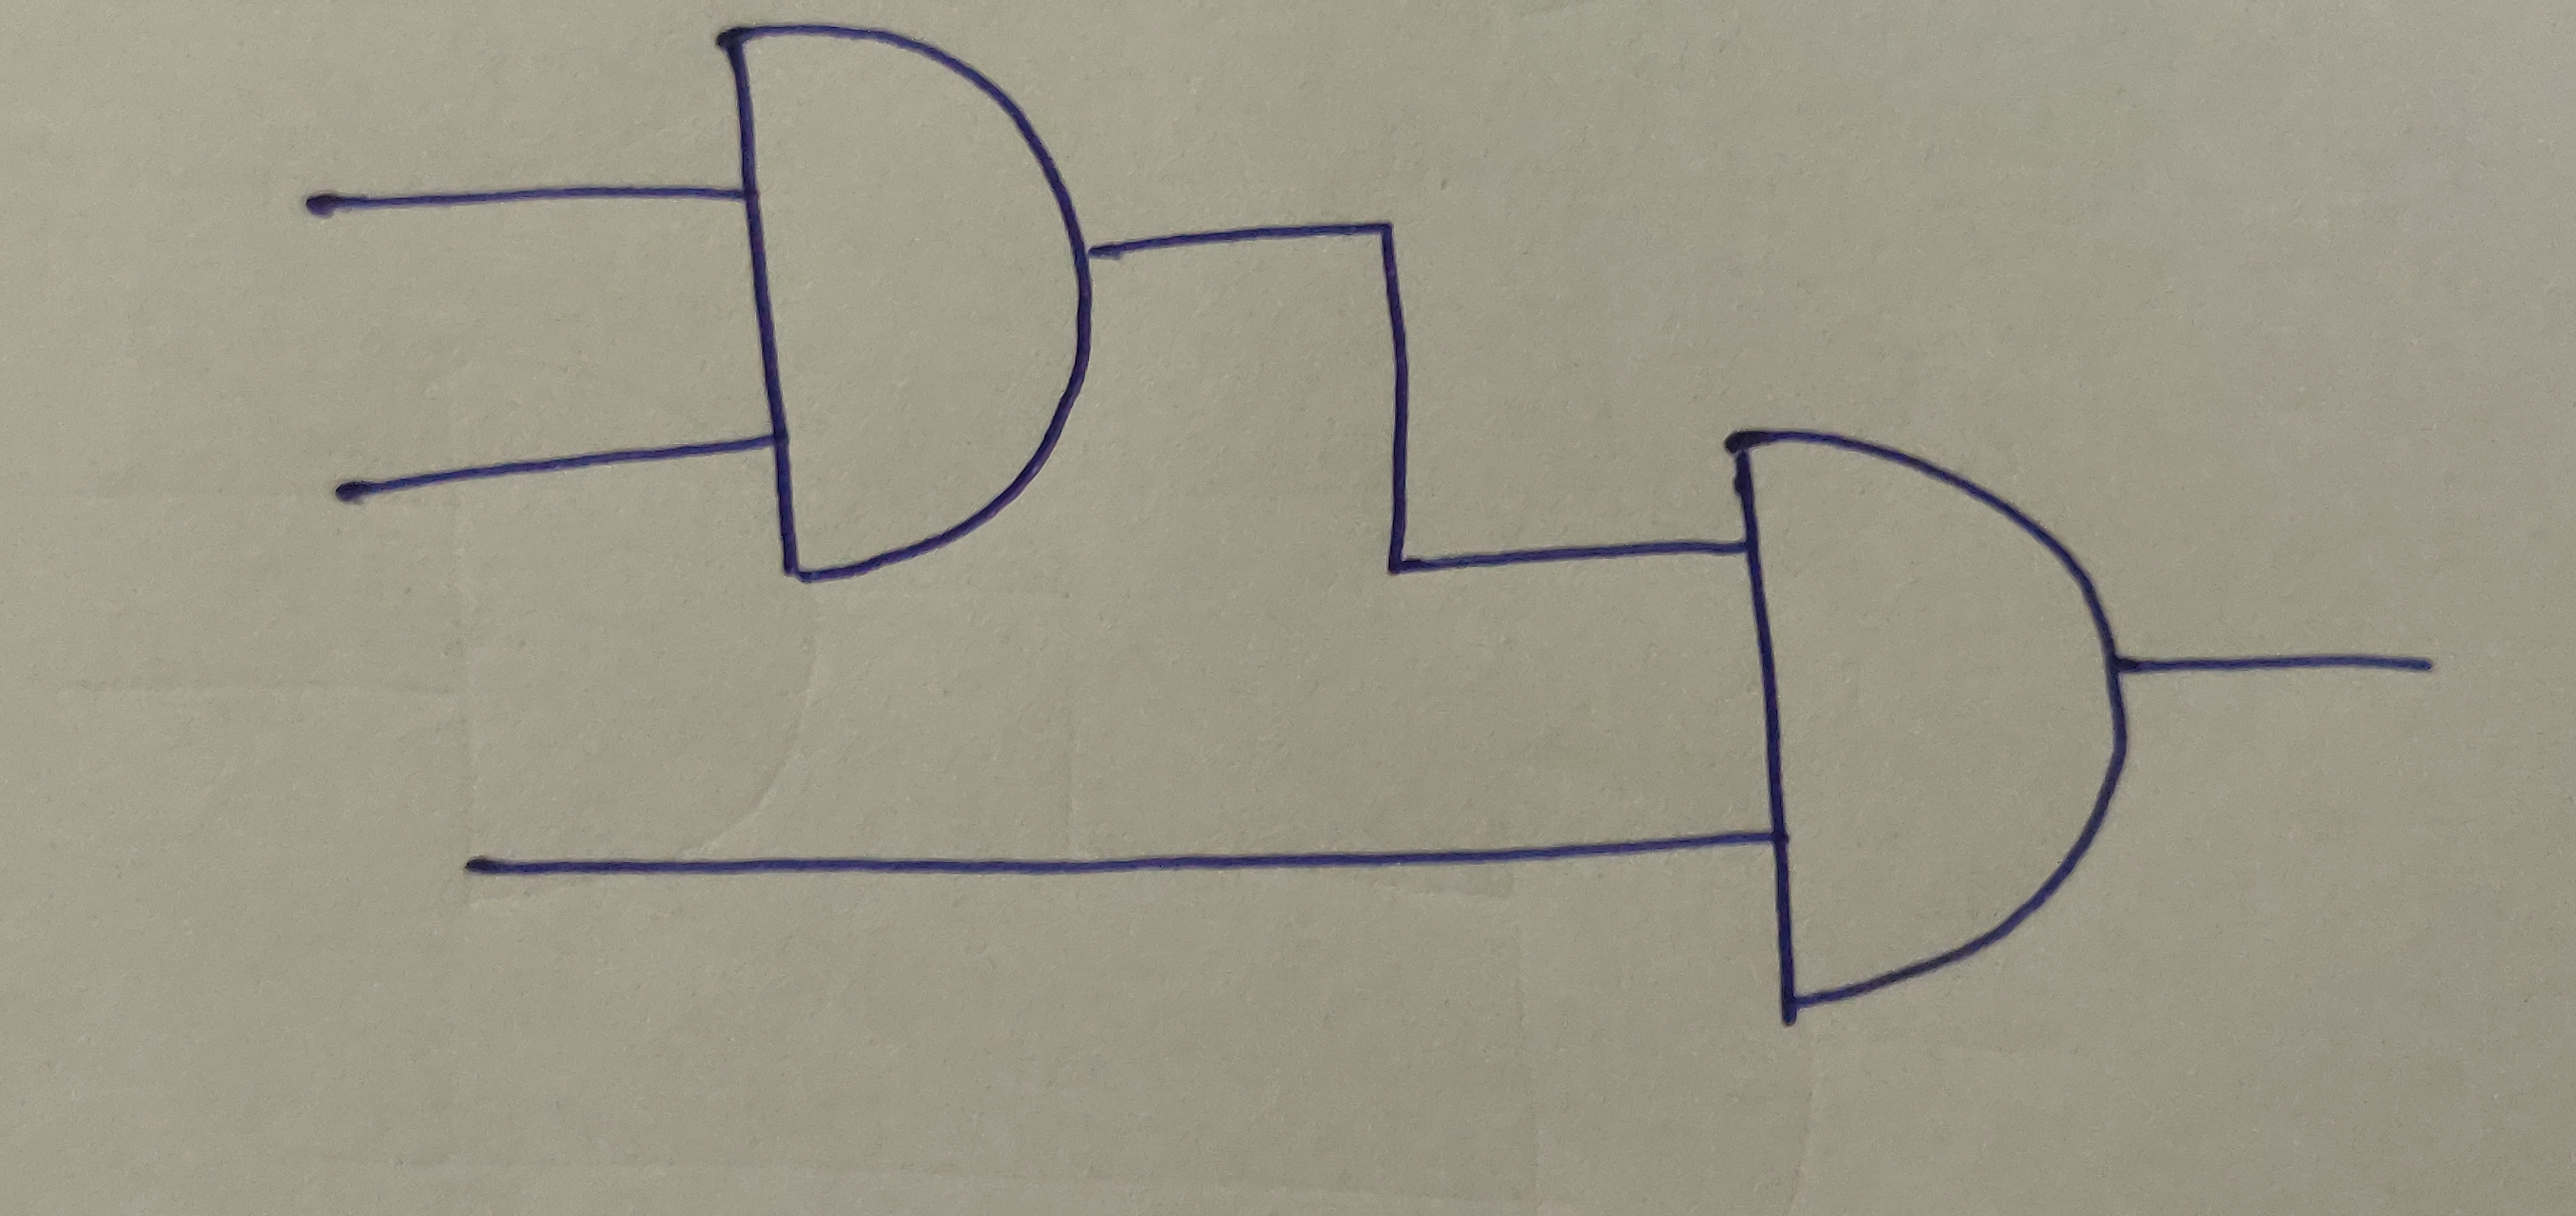and: (1727, 426, 2134, 1014), (721, 23, 1094, 582)
